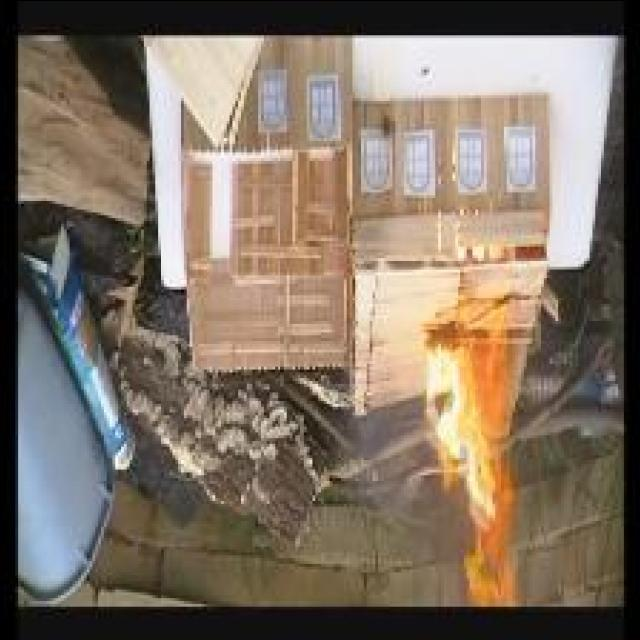Fire: (426, 298, 520, 606)
